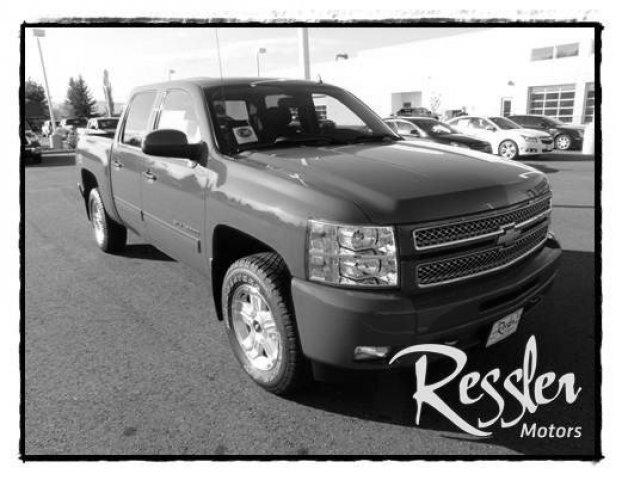car: (77, 81, 561, 392)
